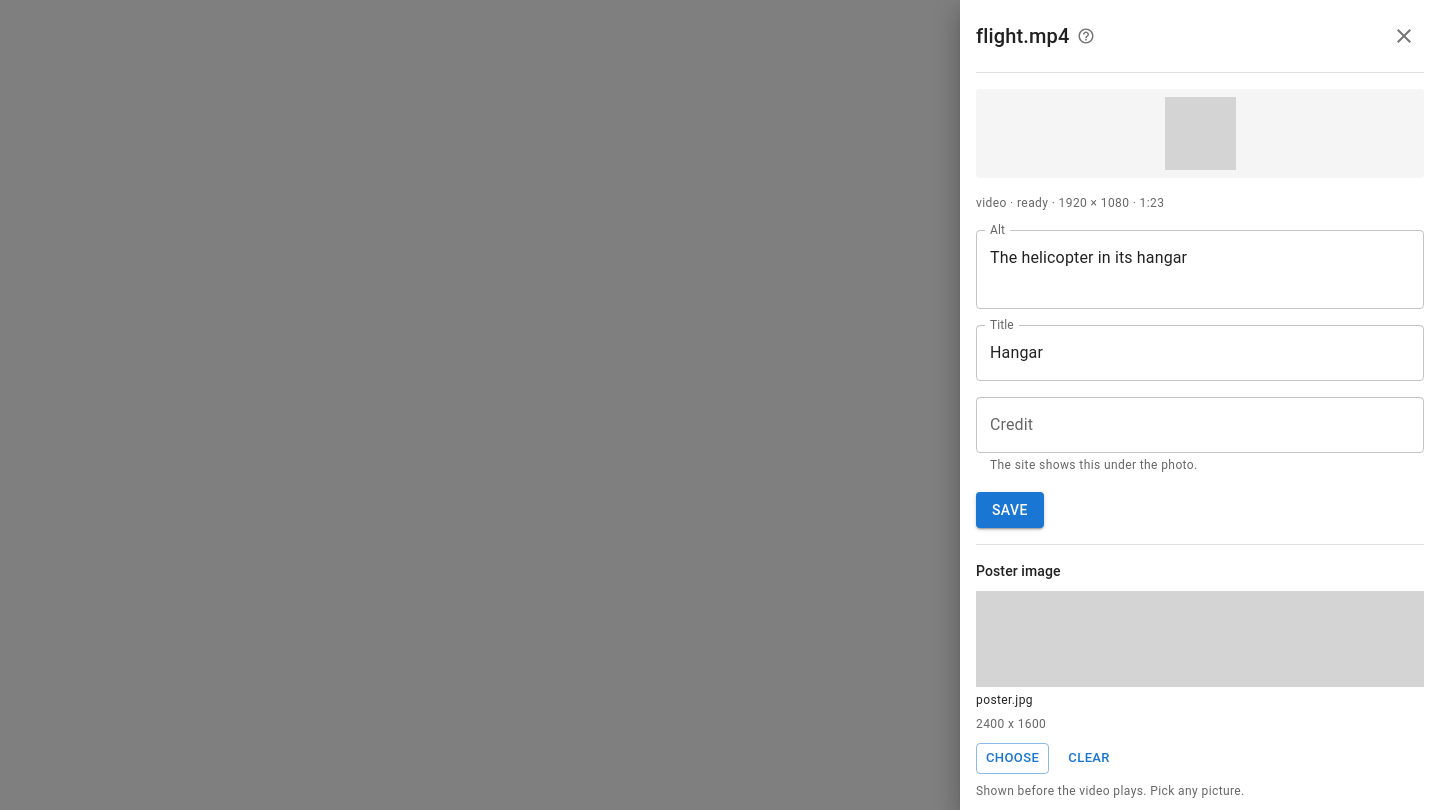
Scenario: MediaDetailDrawer: video › Clear writes null
What coordinates should you click on to do the following:
click the button "Clear"
I would click on:
 (1089, 758)
Its box is [1057,743,1121,774].
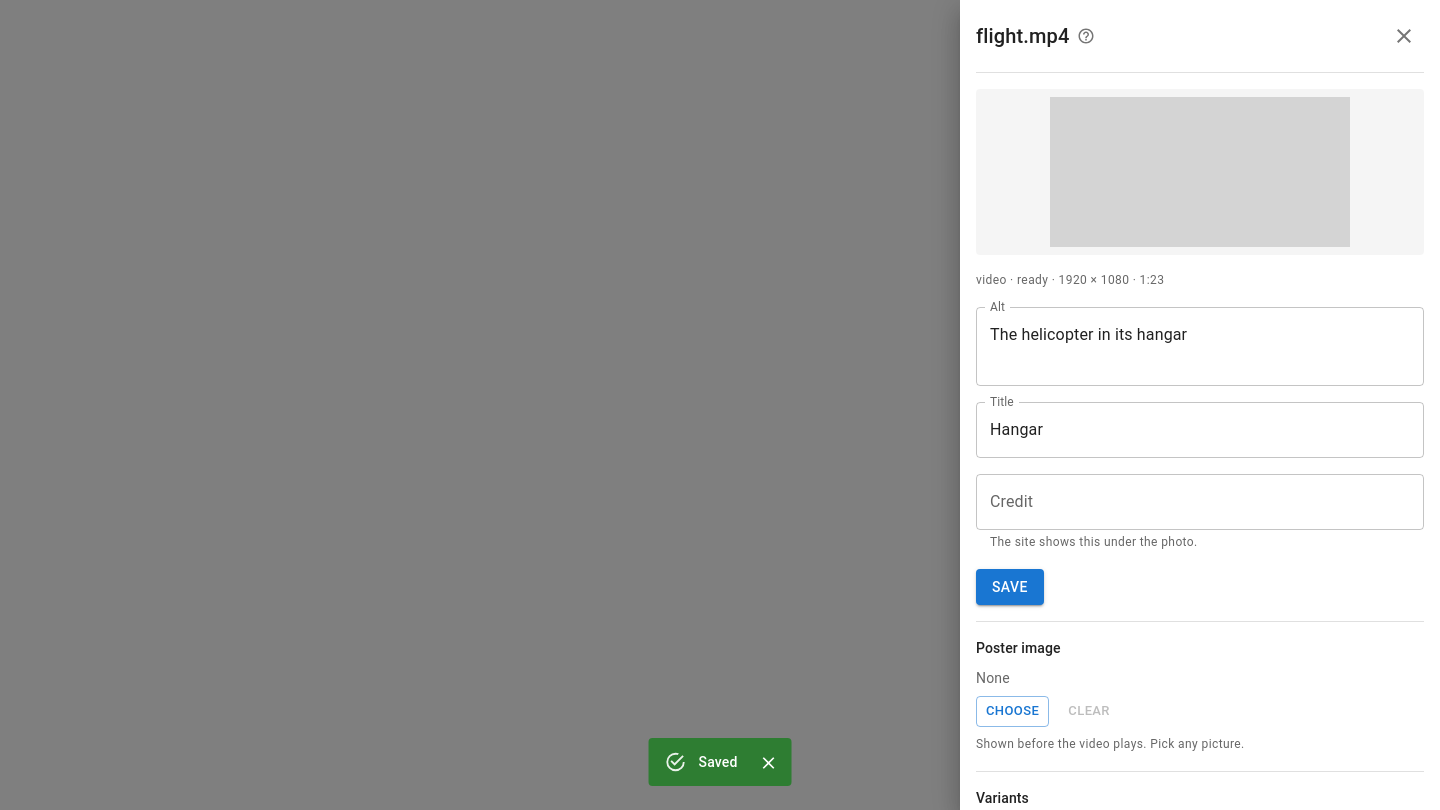
Expected: the text "None" is shown, [976,670,1010,686]
